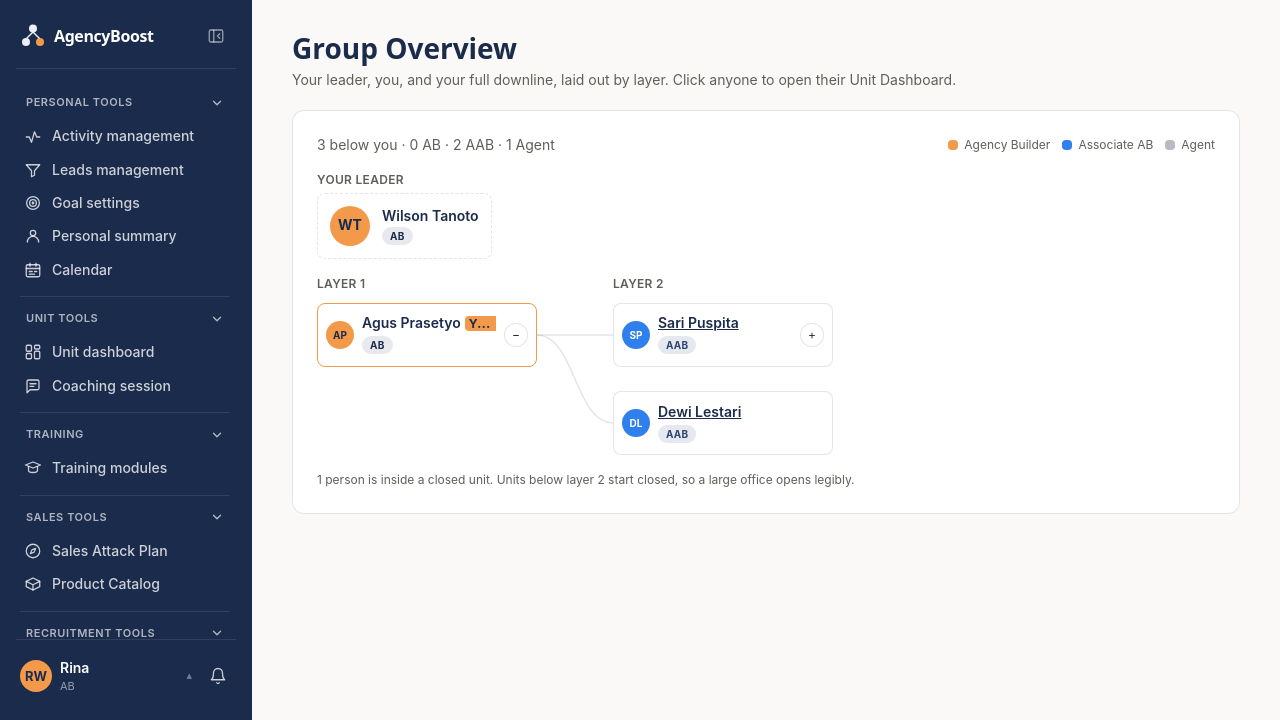
Test: group tree (P3-T8) › AC-3: a unit below layer 2 starts closed, and opens when asked
expect the text "Layer 1" is shown: met, box [317, 276, 366, 291]
expect the text "1 person is inside a closed unit" is shown: met, box [317, 472, 855, 487]
Step 1. Click the button named "Show who reports to Sari Puspita" → click(812, 335), box [800, 323, 824, 347]
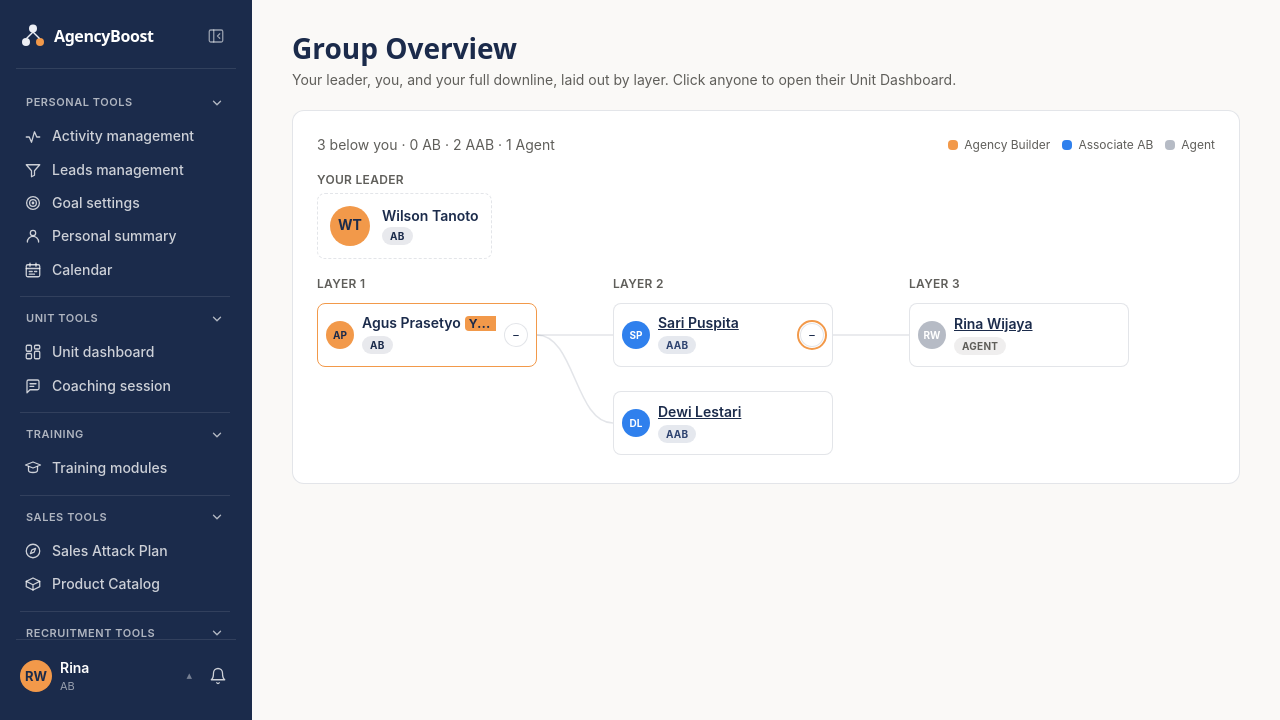
expect the element showing "RW Rina Wijaya Agent" is shown: met, box [909, 303, 1129, 367]
